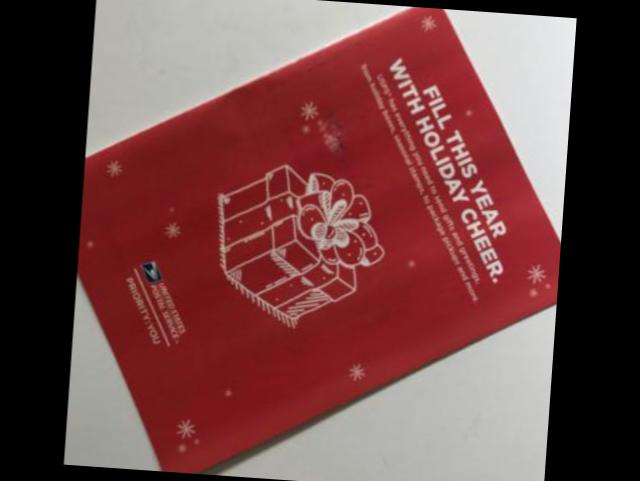cardboard paper: (77, 6, 561, 474)
